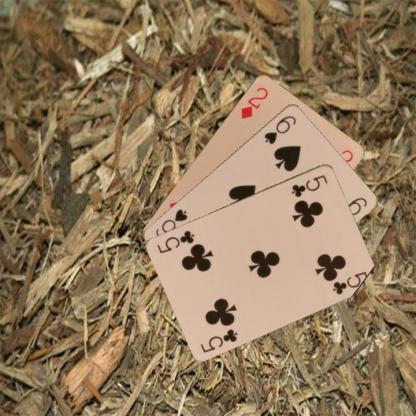2d: (238, 84, 269, 120)
5c: (198, 326, 239, 353), (289, 172, 329, 198)
6s: (261, 112, 298, 146)
